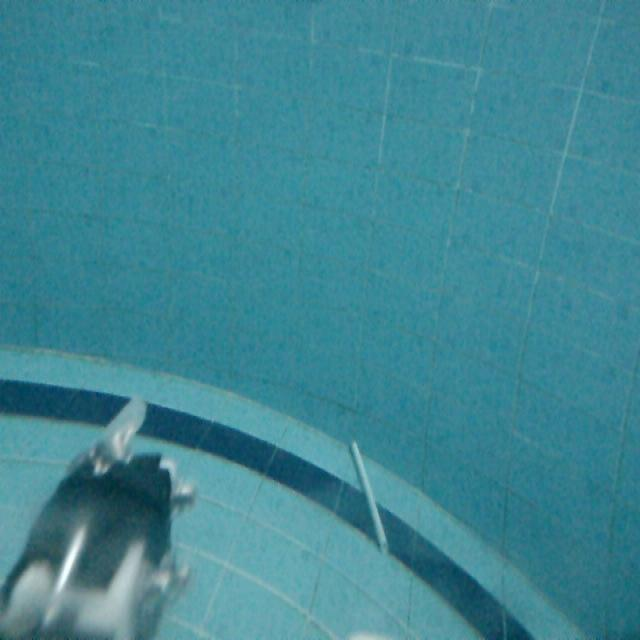Cube: (344, 432, 392, 554)
